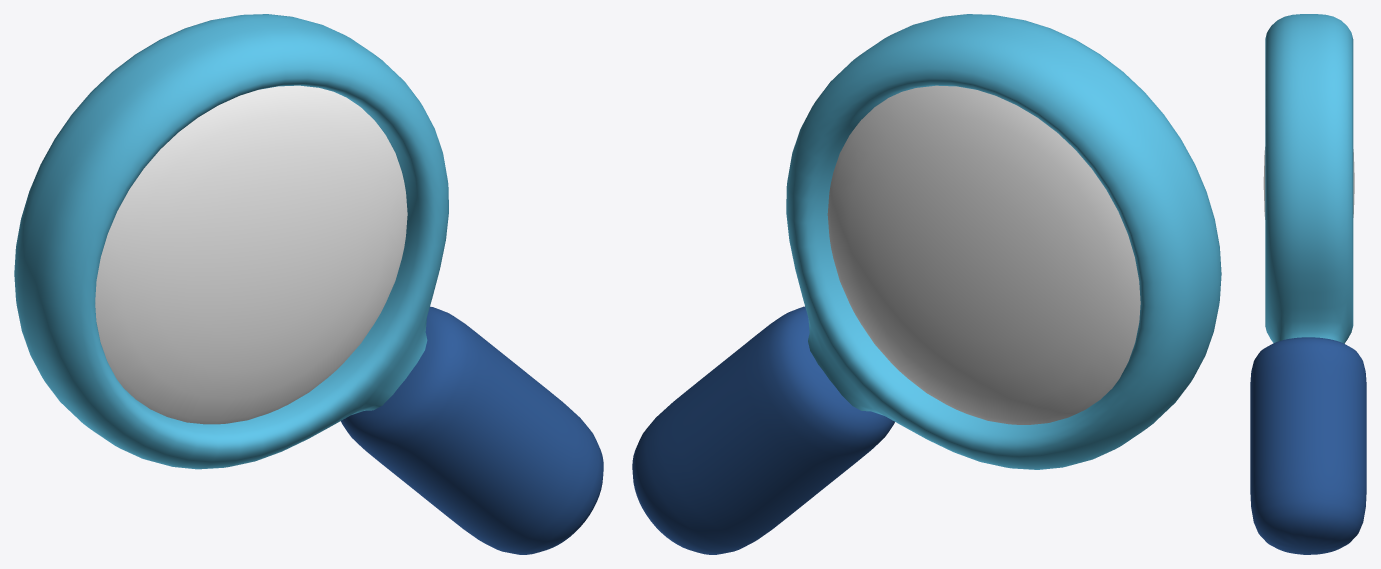
The model's file is magnifying-glass-icon.glb.
3 views of the same model, side by side, from view 1: azimuth 30°, elevation 25°; view 2: azimuth 150°, elevation 25°; view 3: azimuth 270°, elevation 25° (orthographic). The views are drawn at different scales.
Visible parts, largest first — view 1: Mesh_0, Mesh_1; view 2: Mesh_0, Mesh_1; view 3: Mesh_0, Mesh_1.
Boxes of the visible parts, bbox=[...] form: Mesh_0: bbox=[14, 14, 603, 554]; Mesh_1: bbox=[95, 85, 407, 424]; Mesh_0: bbox=[632, 14, 1221, 554]; Mesh_1: bbox=[827, 85, 1140, 424]; Mesh_0: bbox=[1250, 14, 1366, 554]; Mesh_1: bbox=[1263, 147, 1354, 219].
Bounding box in the file's own units: 0.2261 × 0.2255 × 0.0563.
